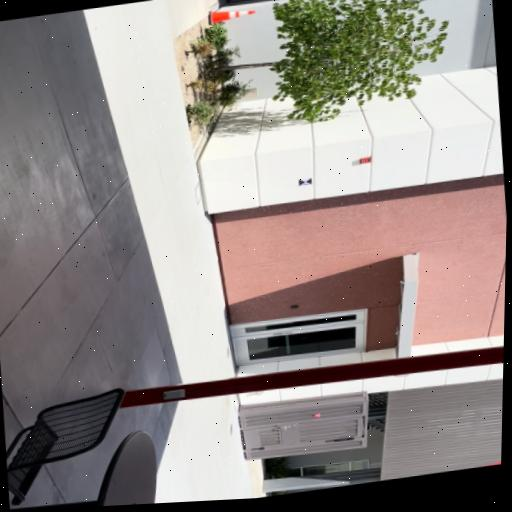target2: (298, 177, 312, 187)
